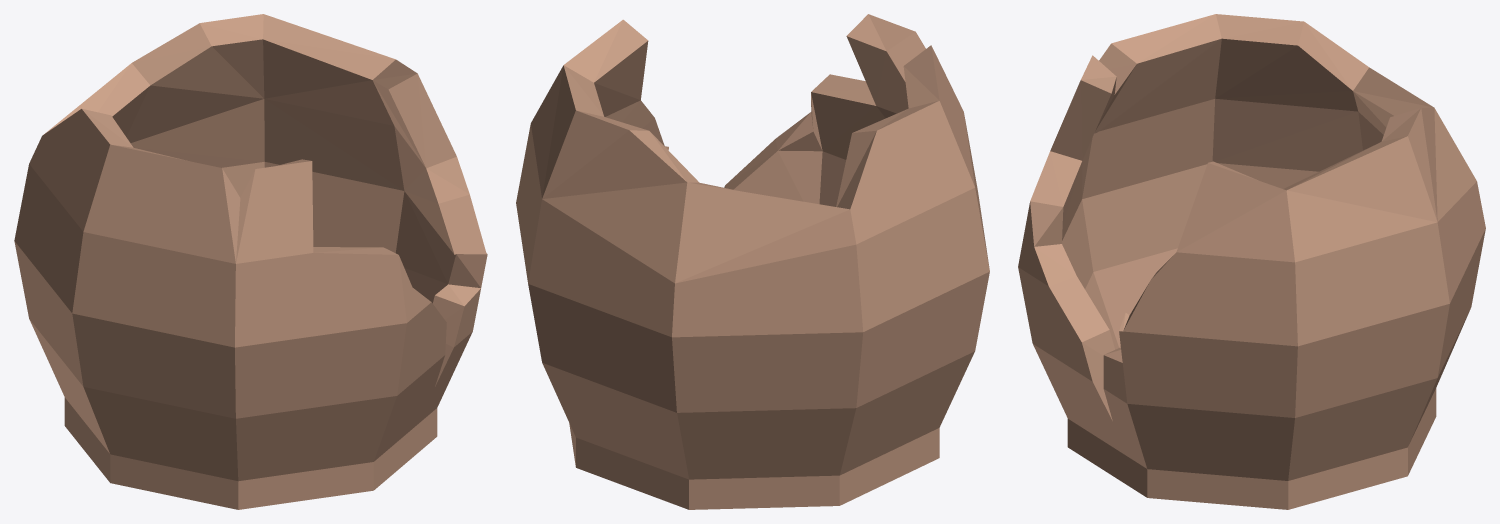
Rendered from Barrel_Destroyed Asia.fbx.
3 renders of one model, left to right at view 1: azimuth 30°, elevation 25°; view 2: azimuth 150°, elevation 25°; view 3: azimuth 270°, elevation 25°, orthographic. The views are drawn at different scales.
Visible parts, largest first — view 1: Barrel_Destroyed; view 2: Barrel_Destroyed; view 3: Barrel_Destroyed.
Part boxes in pixels (box(x1,y1,x2,y2)): Barrel_Destroyed: box(14, 14, 487, 509); Barrel_Destroyed: box(516, 14, 989, 509); Barrel_Destroyed: box(1018, 14, 1485, 509).
Size of the model in its own units: 0.4225 by 0.339 by 0.4225.
